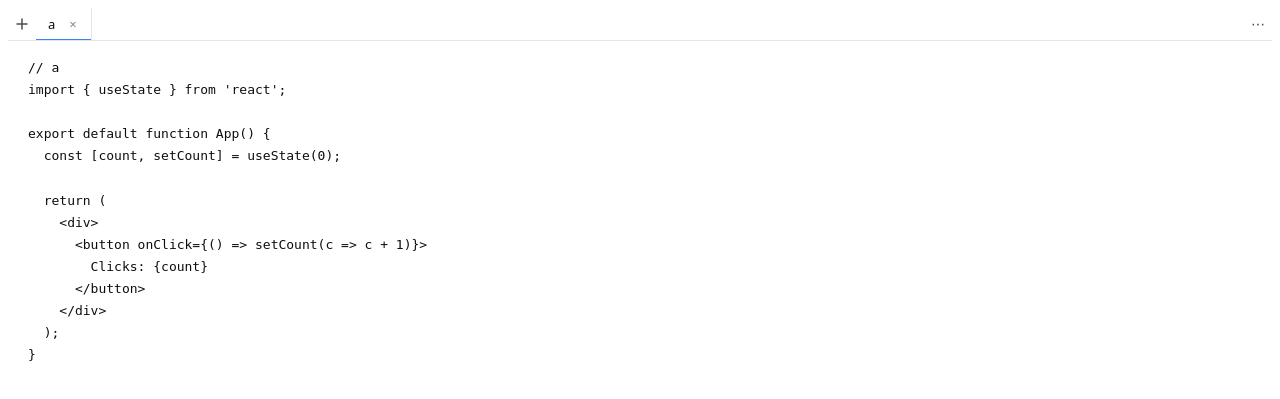
Test: LayoutProvider + LayoutRoot › end-to-end: split → + → pick chip — new panel survives (regression)
Open the actions menu and pick "Split right".
Click the button named "Panel actions": [1258, 24] box left=1244, top=10, right=1272, bottom=38
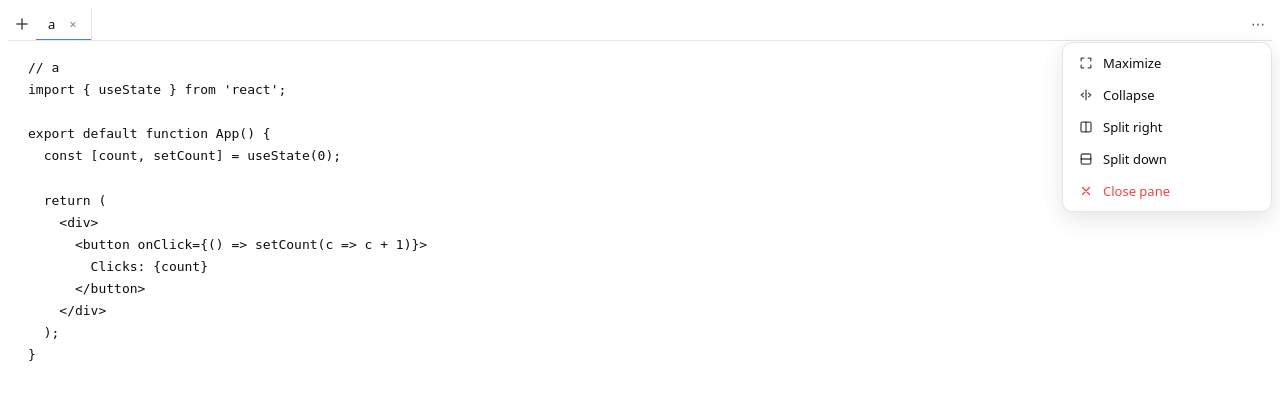
Click the menu item "Split right": [1167, 127] box left=1067, top=111, right=1267, bottom=143
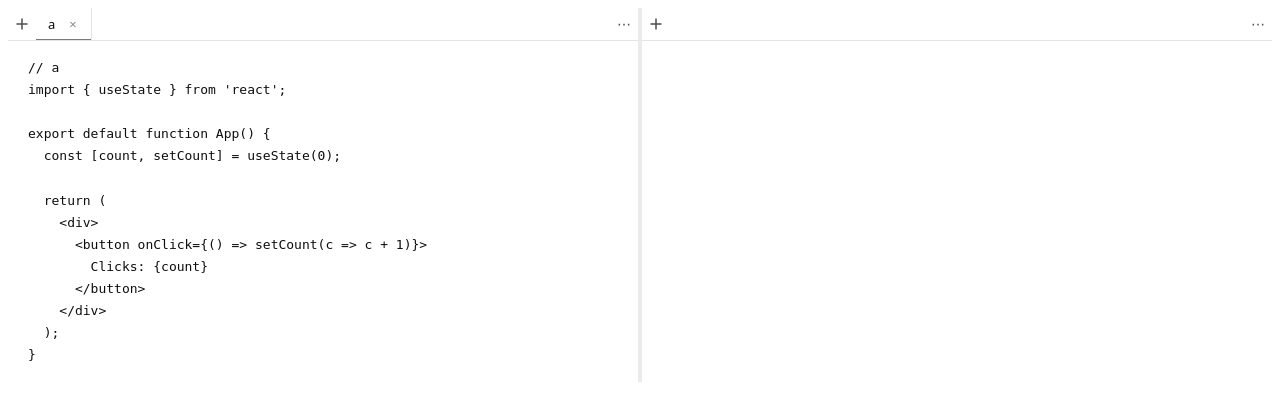
Check: the number of buttons named "New tab" is 2
Click the 2nd button named "New tab": [656, 24] box left=642, top=10, right=670, bottom=38
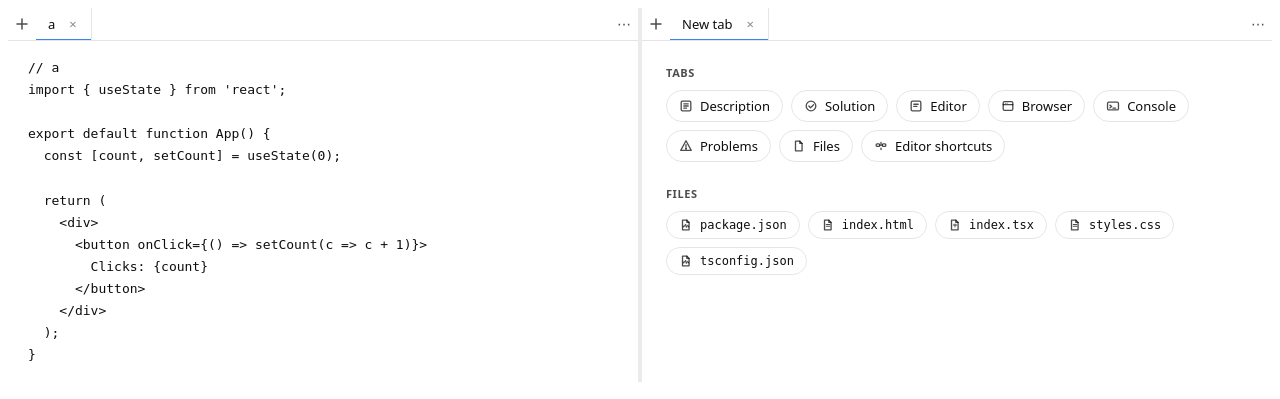
Pick "Console" in the chooser.
Click the button "Console": [1141, 106] box left=1093, top=90, right=1189, bottom=122
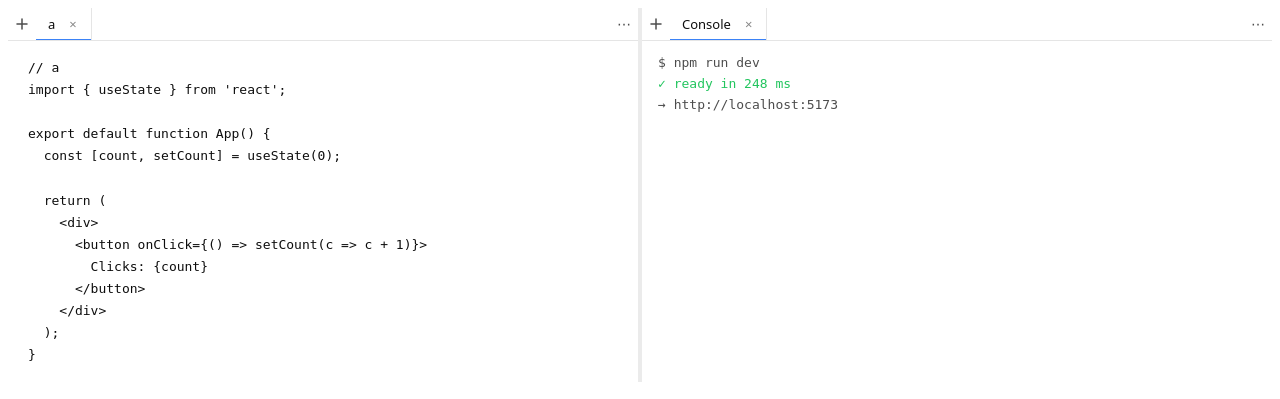
Check: the text "$ npm run dev" is shown, box left=658, top=55, right=760, bottom=70
